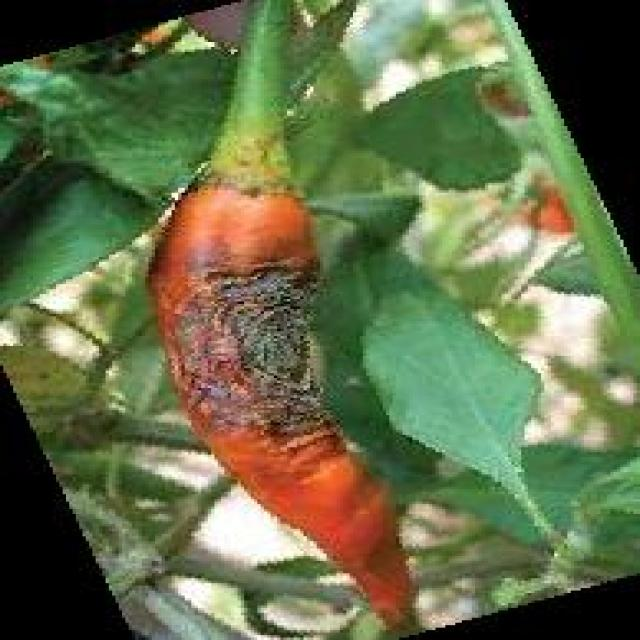Moko: (110, 96, 434, 598)
